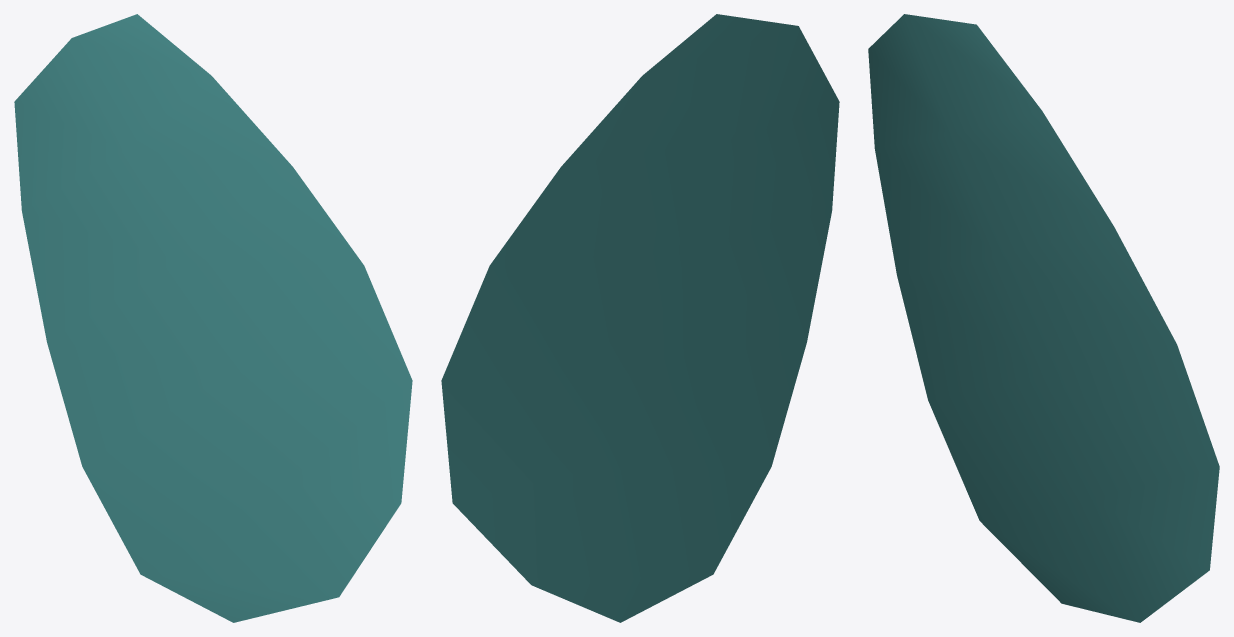
The model's file is budgie_feather_flight_tertiary_023.obj.
3 renders of one model, left to right at view 1: azimuth 30°, elevation 25°; view 2: azimuth 150°, elevation 25°; view 3: azimuth 330°, elevation 25°, orthographic. The views are drawn at different scales.
Visible parts, largest first — view 1: feather_flight_tertiary_023; view 2: feather_flight_tertiary_023; view 3: feather_flight_tertiary_023.
Part boxes in pixels (left/top/right/bottom): feather_flight_tertiary_023: left=14, top=14, right=412, bottom=622; feather_flight_tertiary_023: left=441, top=14, right=839, bottom=622; feather_flight_tertiary_023: left=868, top=14, right=1219, bottom=622.
Bounding box in the file's own units: 0.00897 × 0.0136 × 0.000322.
